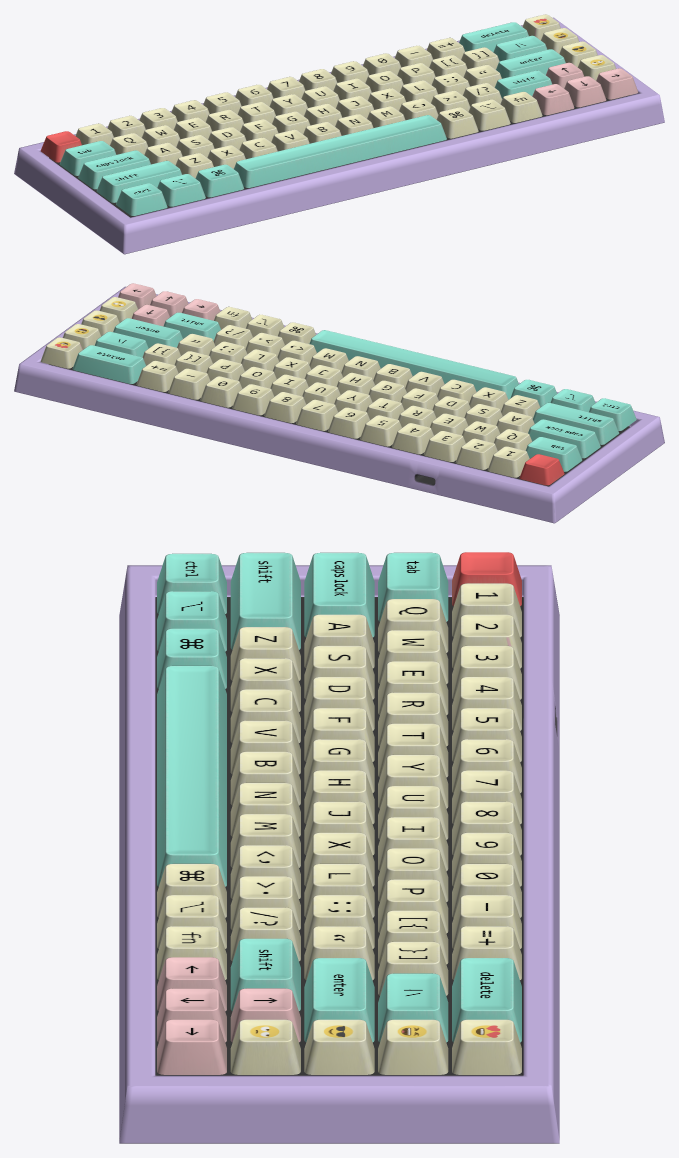
File: keyboard.gltf
3 views of the same model, one above another, from view 1: azimuth 30°, elevation 25°; view 2: azimuth 150°, elevation 25°; view 3: azimuth 270°, elevation 25° (orthographic). The views are drawn at different scales.
Visible parts, largest first — view 1: Object_4, Object_3, Object_2; view 2: Object_4, Object_3, Object_2; view 3: Object_4, Object_3, Object_2.
Part boxes in pixels (x1,y1,x2,y2): Object_4: [40, 14, 638, 178]; Object_3: [14, 17, 664, 254]; Object_2: [59, 22, 565, 215]; Object_4: [40, 283, 564, 485]; Object_3: [14, 286, 664, 523]; Object_2: [72, 312, 636, 471]; Object_4: [157, 552, 521, 1074]; Object_3: [119, 565, 559, 1143]; Object_2: [157, 552, 521, 1042].
Bounding box in the file's own units: 3.39 × 0.2485 × 1.19.
3 materials, 3 textured.
